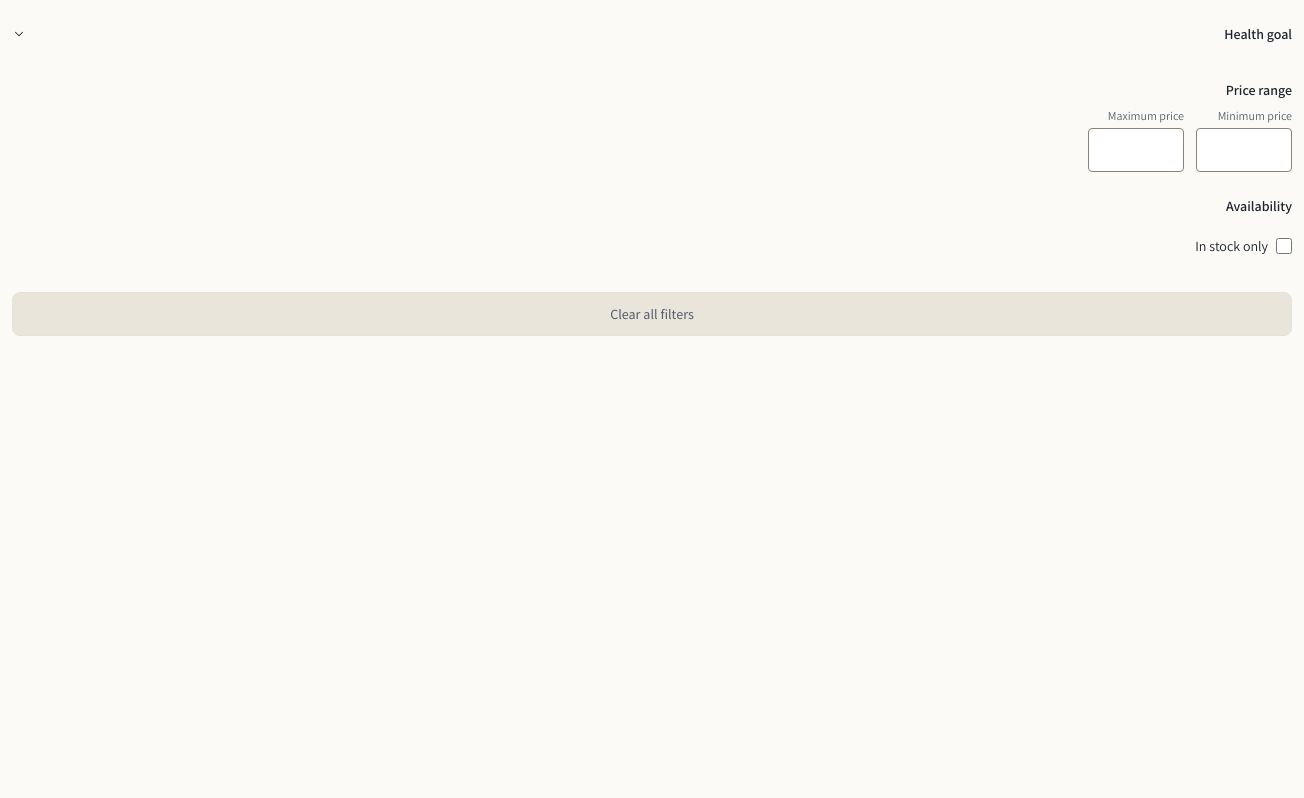
it: ISSUE-050/051 — big filter groups are disclosures › 🔴 a big group renders COLLAPSED: no checkboxes until its button expands it
The image size is (1304, 798).
Expected: the number of checkboxes is 1, [1276,238,1292,254]
Click the button "Health goal".
click(1258, 34)  # box [12,12,1292,56]
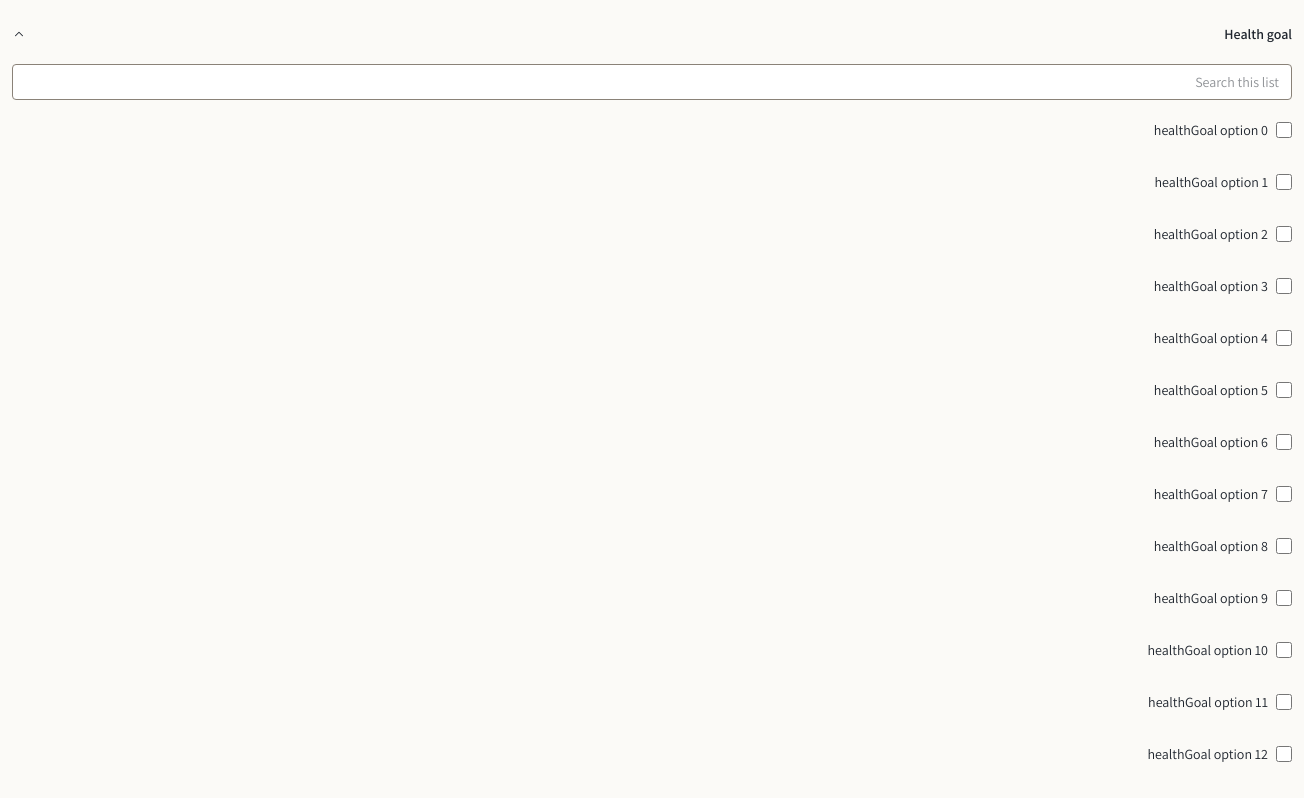
Expected: the number of checkboxes is 54
